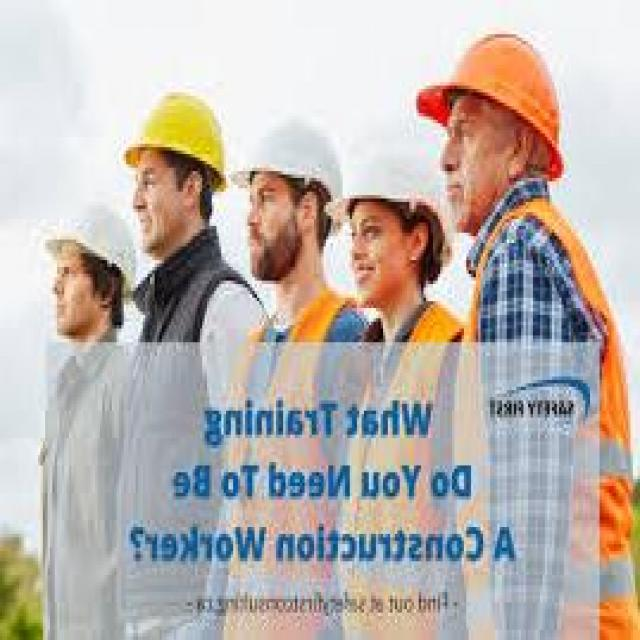Reflective-Jacket: (445, 184, 638, 636), (226, 280, 366, 636), (338, 291, 469, 633)
Safety-Helmet: (412, 21, 574, 171), (338, 96, 450, 233), (122, 78, 236, 198), (240, 96, 348, 209), (28, 188, 140, 291)
